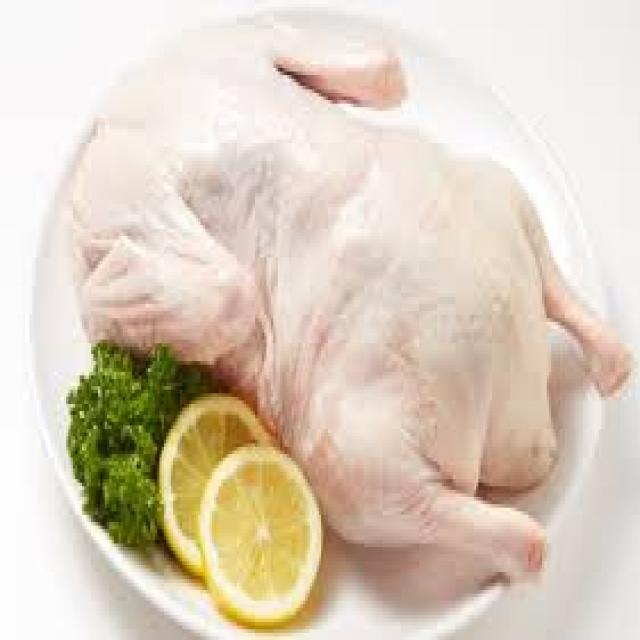chicken: (50, 21, 640, 594)
